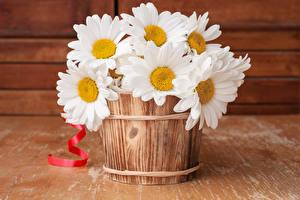chamomile: (51, 60, 107, 120), (185, 60, 230, 127), (66, 22, 124, 72), (131, 53, 185, 102), (123, 13, 177, 50), (178, 22, 224, 59)
